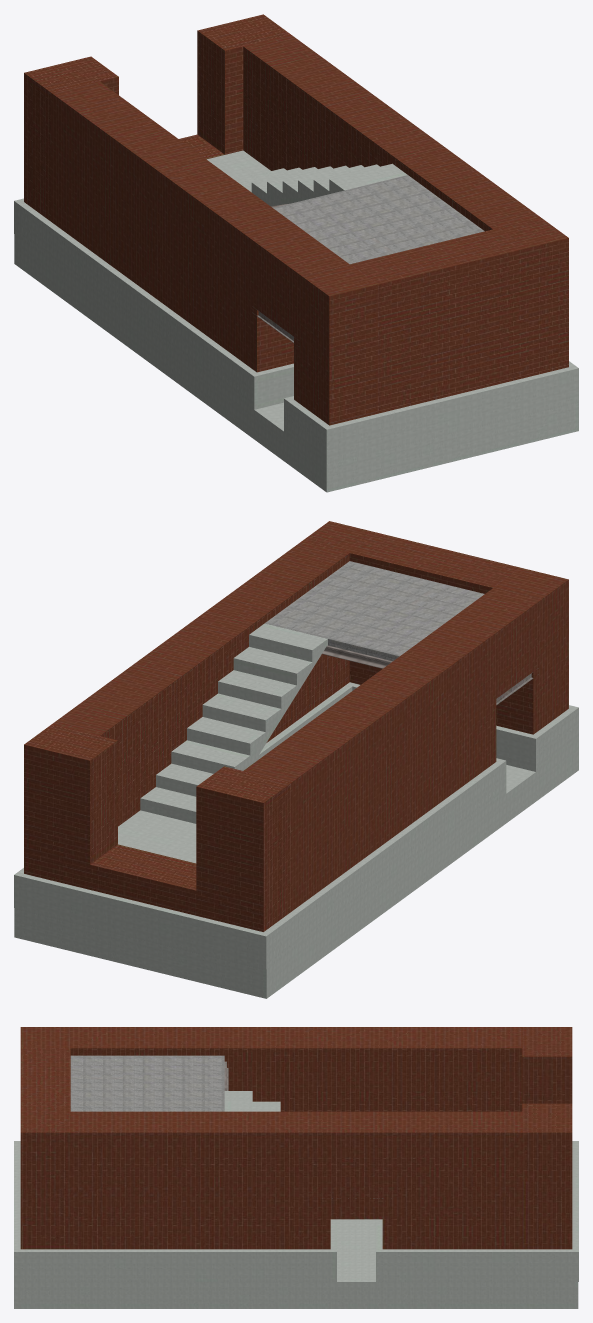
File: poltavskaya5-29_lk10.glb
The picture shows the model from 3 angles, top to bottom: view 1: azimuth 30°, elevation 25°; view 2: azimuth 150°, elevation 25°; view 3: azimuth 270°, elevation 25°; orthographic projection. The views are drawn at different scales.
Visible parts, largest first — view 1: Стены__Базовая стена__ADSK_Внутренняя_Кирпич_760__504636, Стены__Базовая стена__ADSK_Внутренняя_Кирпич_760__504688, Стены__Базовая стена__ADSK_Внутренняя_Кирпич_760__504768, Перекрытия__Перекрытие__ADSK_лента__508880, Перекрытия__Перекрытие__ADSK_Пол_По грунту_448__503275, Стены__Базовая стена__ADSK_Внутренняя_Кирпич_760__504568, Перекрытия__Перекрытие__ADSK_Площадка 2.330__493566, Лестницы__Лестницы 1__Лестницы 1__506350, Перекрытия__Перекрытие__ADSK_Площадка 0.000__493448; view 2: Стены__Базовая стена__ADSK_Внутренняя_Кирпич_760__504636, Стены__Базовая стена__ADSK_Внутренняя_Кирпич_760__504568, Стены__Базовая стена__ADSK_Внутренняя_Кирпич_760__504768, Перекрытия__Перекрытие__ADSK_лента__508880, Перекрытия__Перекрытие__ADSK_Пол_По грунту_448__503275, Лестницы__Лестницы 1__Лестницы 1__506350, Перекрытия__Перекрытие__ADSK_Площадка 2.330__493566, Стены__Базовая стена__ADSK_Внутренняя_Кирпич_760__504688, Перекрытия__Перекрытие__ADSK_Площадка 0.000__493448, Каркас несущий__ADSK_КаркасНесущий_КрановыйРельс_КР70_ГОСТ Р; view 3: Стены__Базовая стена__ADSK_Внутренняя_Кирпич_760__504768, Стены__Базовая стена__ADSK_Внутренняя_Кирпич_760__504636, Перекрытия__Перекрытие__ADSK_лента__508880, Перекрытия__Перекрытие__ADSK_Пол_По грунту_448__503275, Стены__Базовая стена__ADSK_Внутренняя_Кирпич_760__504568, Стены__Базовая стена__ADSK_Внутренняя_Кирпич_760__504688, Перекрытия__Перекрытие__ADSK_Площадка 2.330__493566, Лестницы__Лестницы 1__Лестницы 1__506350.
Part boxes in pixels (box(x1,y1,x2,y2)): Стены__Базовая стена__ADSK_Внутренняя_Кирпич_760__504636: box(51, 81, 377, 425); Стены__Базовая стена__ADSK_Внутренняя_Кирпич_760__504688: box(350, 218, 568, 413); Стены__Базовая стена__ADSK_Внутренняя_Кирпич_760__504768: box(243, 35, 540, 231); Перекрытия__Перекрытие__ADSK_лента__508880: box(14, 198, 578, 462); Перекрытия__Перекрытие__ADSK_Пол_По грунту_448__503275: box(14, 234, 578, 492); Стены__Базовая стена__ADSK_Внутренняя_Кирпич_760__504568: box(24, 14, 290, 221); Перекрытия__Перекрытие__ADSK_Площадка 2.330__493566: box(273, 175, 484, 264); Лестницы__Лестницы 1__Лестницы 1__506350: box(235, 163, 407, 206); Перекрытия__Перекрытие__ADSK_Площадка 0.000__493448: box(207, 150, 270, 179); Стены__Базовая стена__ADSK_Внутренняя_Кирпич_760__504636: box(243, 568, 568, 911); Стены__Базовая стена__ADSK_Внутренняя_Кирпич_760__504568: box(24, 724, 291, 931); Стены__Базовая стена__ADSK_Внутренняя_Кирпич_760__504768: box(52, 541, 349, 826); Перекрытия__Перекрытие__ADSK_лента__508880: box(14, 682, 578, 969); Перекрытия__Перекрытие__ADSK_Пол_По грунту_448__503275: box(14, 741, 578, 998); Лестницы__Лестницы 1__Лестницы 1__506350: box(140, 623, 327, 823); Перекрытия__Перекрытие__ADSK_Площадка 2.330__493566: box(265, 561, 484, 661); Стены__Базовая стена__ADSK_Внутренняя_Кирпич_760__504688: box(302, 521, 520, 684); Перекрытия__Перекрытие__ADSK_Площадка 0.000__493448: box(118, 810, 196, 863); Каркас несущий__ADSK_КаркасНесущий_КрановыйРельс_КР70_ГОСТ Р: box(322, 645, 392, 668); Стены__Базовая стена__ADSK_Внутренняя_Кирпич_760__504768: box(70, 1111, 522, 1249); Стены__Базовая стена__ADSK_Внутренняя_Кирпич_760__504636: box(20, 1027, 522, 1111); Перекрытия__Перекрытие__ADSK_лента__508880: box(14, 1141, 578, 1281); Перекрытия__Перекрытие__ADSK_Пол_По грунту_448__503275: box(14, 1219, 578, 1308); Стены__Базовая стена__ADSK_Внутренняя_Кирпич_760__504568: box(522, 1027, 572, 1249); Стены__Базовая стена__ADSK_Внутренняя_Кирпич_760__504688: box(20, 1048, 70, 1249); Перекрытия__Перекрытие__ADSK_Площадка 2.330__493566: box(70, 1055, 224, 1111); Лестницы__Лестницы 1__Лестницы 1__506350: box(224, 1091, 280, 1111).
Size of the model in its own units: 3.99 by 2.9 by 8.56.
19 materials, 19 textured.
